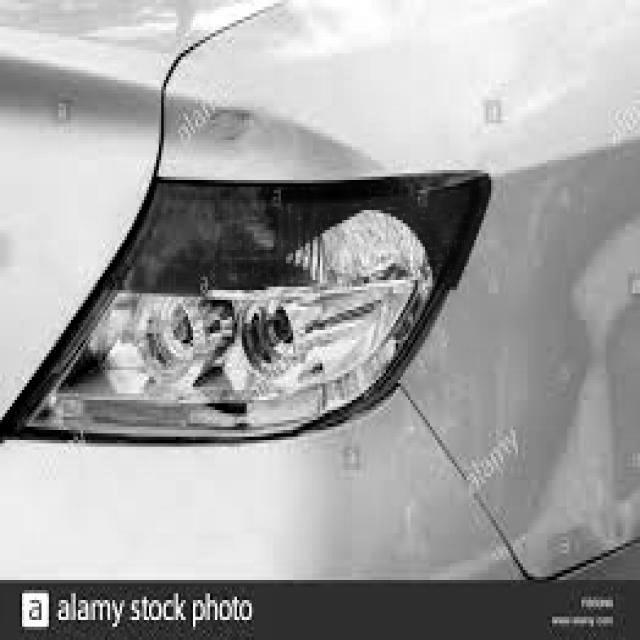Taillight-Damage: (33, 143, 492, 449)
